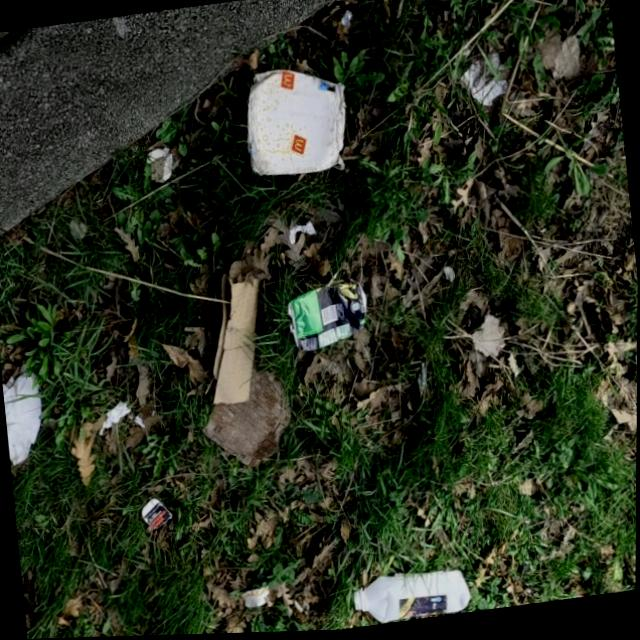Can-Metal: (283, 275, 373, 357)
Cup: (238, 62, 356, 186)
Paper: (1, 366, 48, 470), (457, 51, 511, 115), (96, 399, 133, 437), (145, 146, 175, 188), (288, 220, 318, 246)
Plastic: (242, 586, 272, 611)
